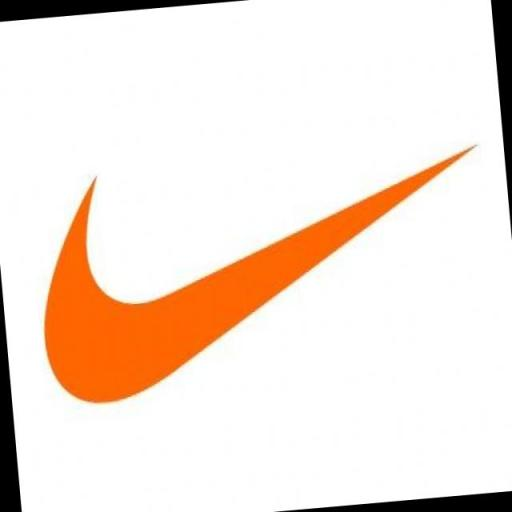Nike: (26, 137, 508, 410)
